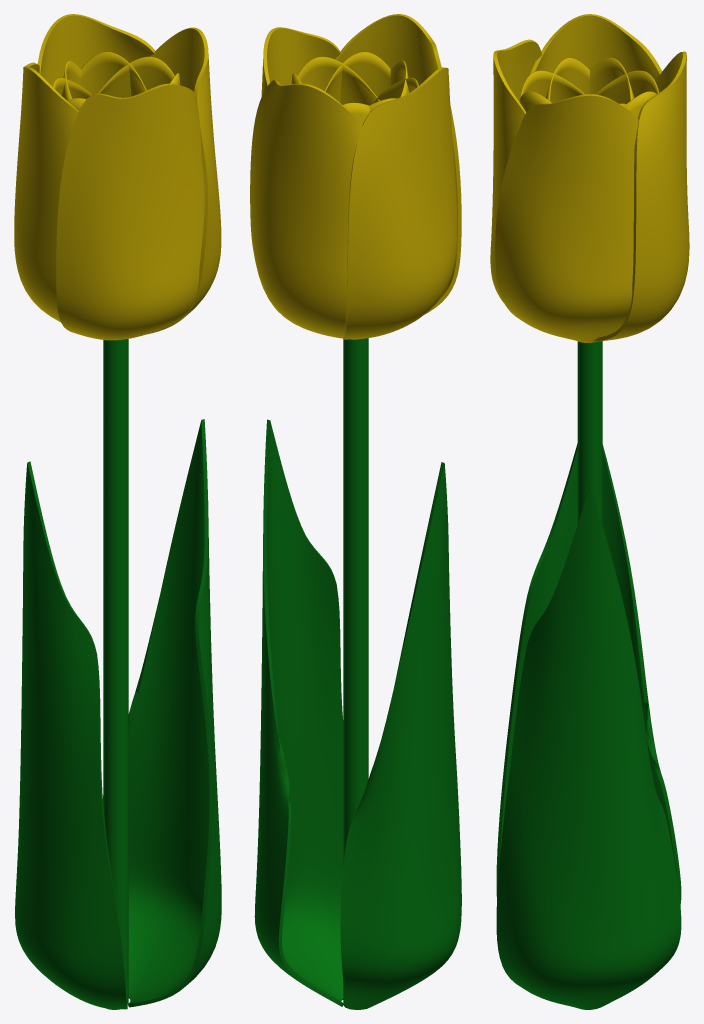
The model's file is tulip_yellow.fbx.
3 renders of one model, left to right at view 1: azimuth 30°, elevation 25°; view 2: azimuth 150°, elevation 25°; view 3: azimuth 270°, elevation 25°, orthographic.
Parts seen in each view (by area): view 1: 平面.002, 平面, NURBSパス, 平面.001; view 2: 平面.002, 平面, NURBSパス, 平面.001; view 3: 平面.002, 平面, 平面.001, NURBSパス.
Part boxes in pixels (<box>): 平面.002: <box>15,419,221,1009</box>; 平面: <box>14,14,221,340</box>; NURBSパス: <box>103,339,128,1004</box>; 平面.001: <box>53,52,180,110</box>; 平面.002: <box>254,419,461,1009</box>; 平面: <box>250,14,461,339</box>; NURBSパス: <box>343,338,368,1009</box>; 平面.001: <box>291,52,418,124</box>; 平面.002: <box>496,443,681,1009</box>; 平面: <box>490,14,689,342</box>; 平面.001: <box>519,57,658,118</box>; NURBSパス: <box>577,341,602,525</box>.
Size of what is drawn, in the model's own units: 13.03 by 66.86 by 12.71.
